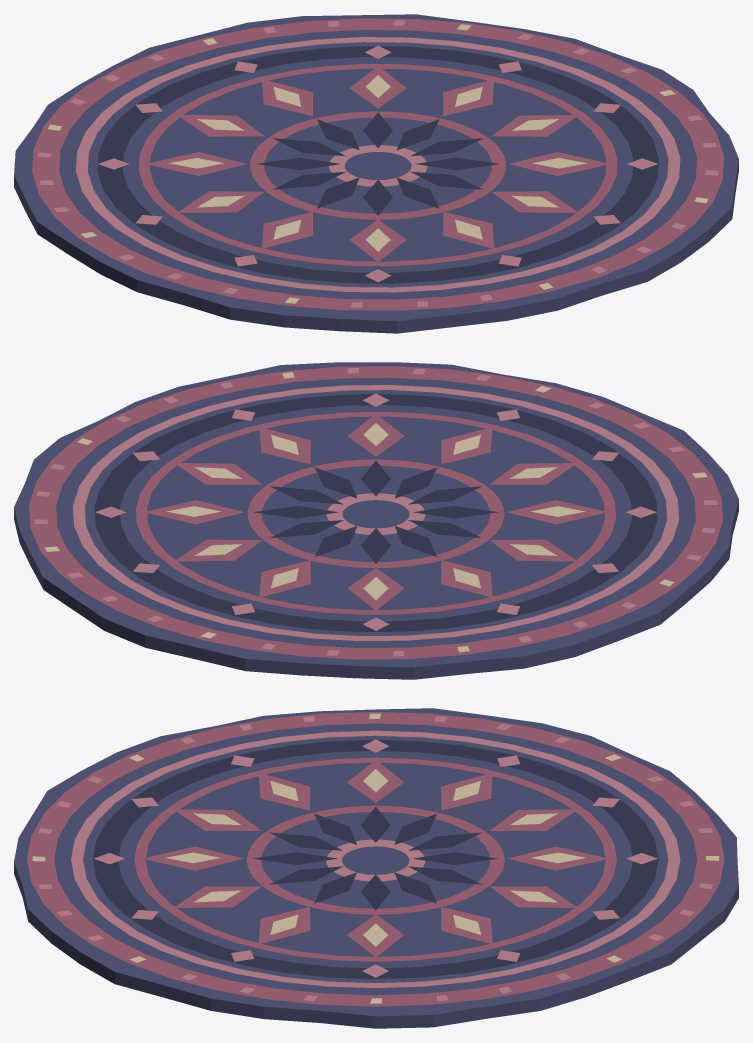
File: rug.glb
3 views of the same model, one above another, from view 1: azimuth 30°, elevation 25°; view 2: azimuth 150°, elevation 25°; view 3: azimuth 270°, elevation 25° (orthographic).
Visible parts, largest first — view 1: rug; view 2: rug; view 3: rug.
Boxes of the visible parts, x1,y1,x2,y2 form: rug: (14, 14, 738, 333); rug: (14, 362, 738, 679); rug: (14, 708, 738, 1028).
Size of the model in its own units: 0.9094 by 0.022 by 0.9042.
